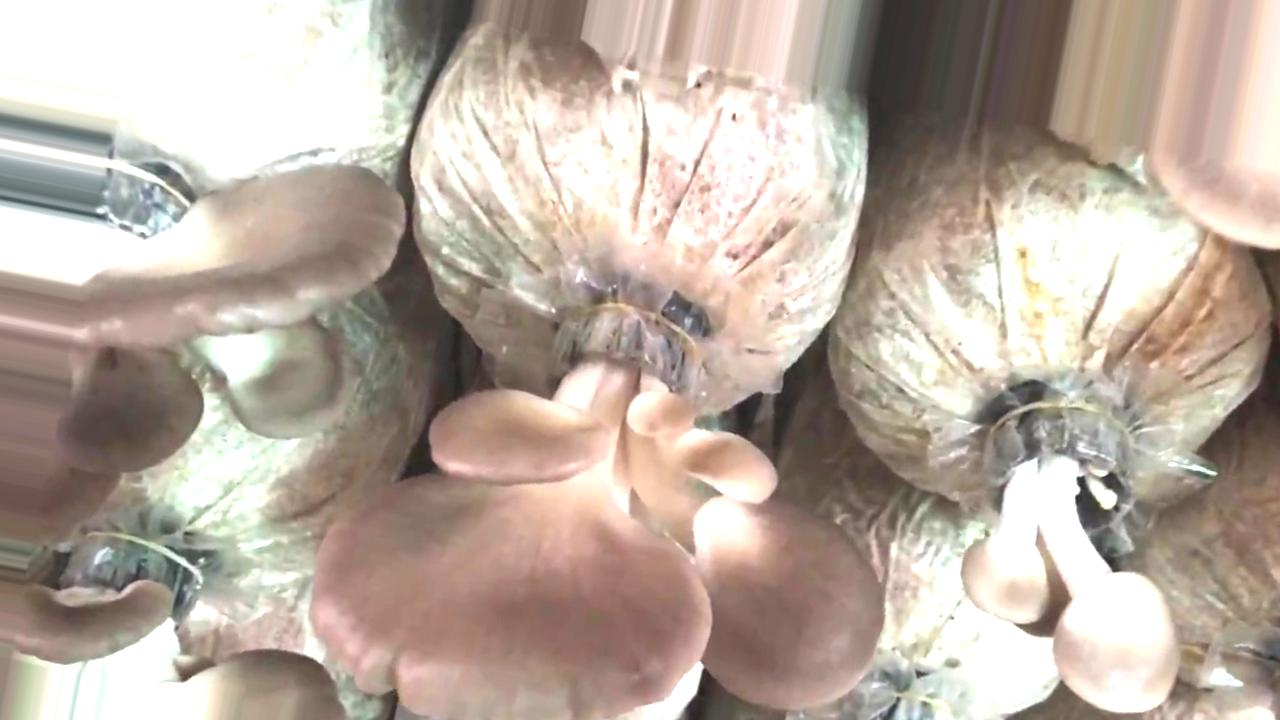nam: (316, 302, 880, 720), (1, 149, 400, 545), (1, 523, 345, 720), (964, 405, 1184, 713)
